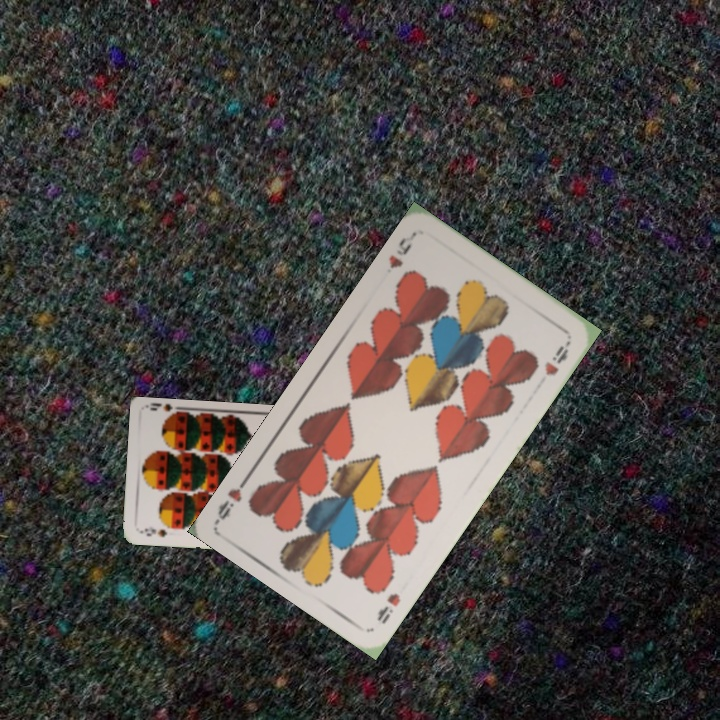H9: (384, 230, 418, 271), (372, 589, 403, 627)
S9: (137, 523, 170, 539)
